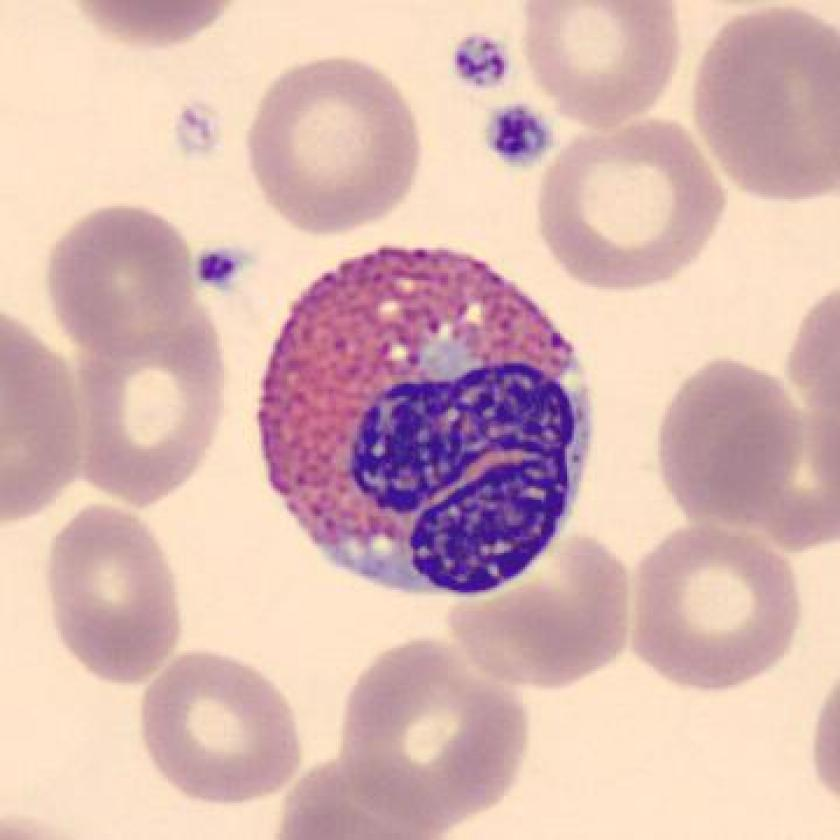eosinophil: (246, 232, 608, 612)
